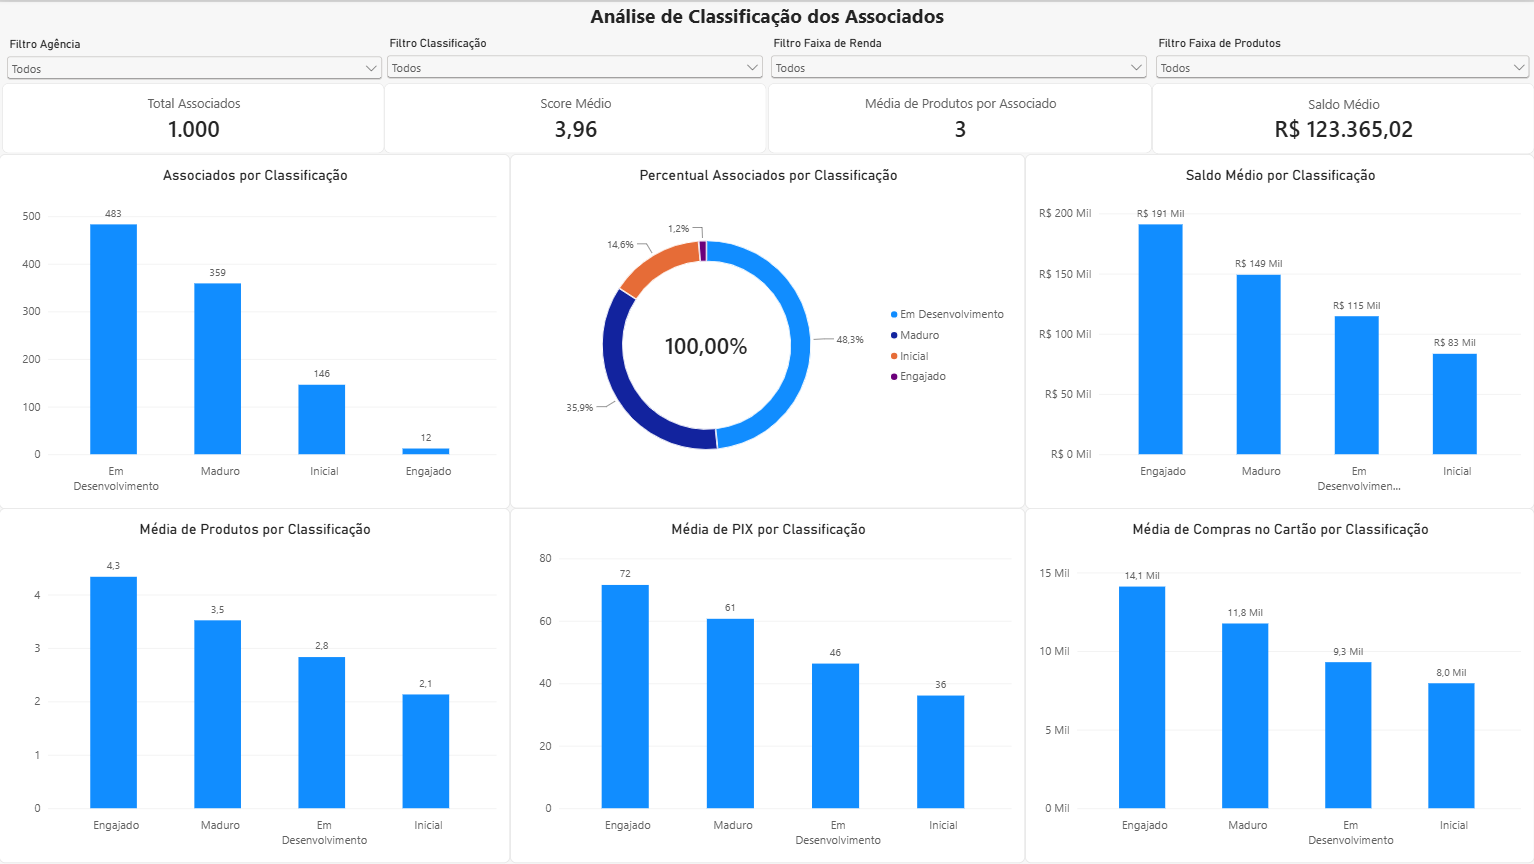

This screenshot's page, from the dashboard's own definition file:
{"tool":"powerbi","page":{"name":"Classificação ","canvas":[1920,1080],"ordinal":2},"visuals":[{"type":"cardVisual","fields":{"Data":["Associados.Total Associados"]},"box":[3.7,101.2,478.6,88.6],"z":0},{"type":"cardVisual","fields":{"Data":["Associados.Saldo Médio"]},"box":[1441.5,101.5,478.5,89.2],"z":1000},{"type":"cardVisual","fields":{"Data":["Associados.Produtos por Associado"]},"box":[961.7,101.2,480,88.6],"z":2000},{"type":"cardVisual","fields":{"Data":["Associados.Score Médio"]},"box":[481.5,101.5,478.6,88.6],"z":3000},{"type":"clusteredColumnChart","title":"Associados por Classificação","fields":{"Category":["Associados.CLASSIFICACAO"],"Y":["Associados.Total Associados"]},"box":[0,190,638.6,444.3],"z":4000},{"type":"clusteredColumnChart","title":"Média de Produtos por Classificação","fields":{"Category":["Associados.CLASSIFICACAO"],"Y":["Associados.Produtos por Associado"]},"box":[0,632.9,638.6,444.3],"z":5000},{"type":"clusteredColumnChart","title":"Saldo Médio por Classificação","fields":{"Category":["Associados.CLASSIFICACAO"],"Y":["Associados.Saldo Médio"]},"box":[1282.9,190,637.1,444.3],"z":6000},{"type":"clusteredColumnChart","title":"Média de PIX por Classificação","fields":{"Category":["Associados.CLASSIFICACAO"],"Y":["Associados.PIX Médio"]},"box":[638.6,632.9,644.3,444.3],"z":7000},{"type":"clusteredColumnChart","title":"Média de Compras no Cartão por Classificação","fields":{"Category":["Associados.CLASSIFICACAO"],"Y":["Associados.Compras Cartão Média"]},"box":[1282.9,632.9,637.1,444.3],"z":8000},{"type":"textbox","box":[0,0,1920,41.4],"z":9000},{"type":"donutChart","title":"Percentual Associados por Classificação","fields":{"Category":["Associados.CLASSIFICACAO"],"Y":["Associados.Percentual Associados"]},"box":[638.6,190,644.3,442.9],"z":10000},{"type":"slicer","fields":{"Values":["Associados.AGENCIA"]},"box":[4.5,44.7,478.6,58.6],"z":11000},{"type":"slicer","fields":{"Values":["Associados.FAIXA_PRODUTOS"]},"box":[1441.4,44.3,477.1,58.6],"z":12000},{"type":"slicer","fields":{"Values":["Associados.CLASSIFICACAO"]},"box":[480,44.3,480,58.6],"z":13000},{"type":"slicer","fields":{"Values":["Associados.FAIXA_RENDA"]},"box":[960,44.3,480,58.6],"z":14000}]}

Visuals, with their boxes in screenshot pixels (x1, y1, x2, y2), scaled from the page's 1920x1080 canvas onto the 1534x864 screenshot:
cardVisual - Associados.Total Associados: {"x1": 3, "y1": 81, "x2": 385, "y2": 152}
cardVisual - Associados.Saldo Médio: {"x1": 1152, "y1": 81, "x2": 1533, "y2": 153}
cardVisual - Associados.Produtos por Associado: {"x1": 768, "y1": 81, "x2": 1152, "y2": 152}
cardVisual - Associados.Score Médio: {"x1": 385, "y1": 81, "x2": 767, "y2": 152}
"Associados por Classificação" clusteredColumnChart: {"x1": 0, "y1": 152, "x2": 510, "y2": 507}
"Média de Produtos por Classificação" clusteredColumnChart: {"x1": 0, "y1": 506, "x2": 510, "y2": 862}
"Saldo Médio por Classificação" clusteredColumnChart: {"x1": 1025, "y1": 152, "x2": 1533, "y2": 507}
"Média de PIX por Classificação" clusteredColumnChart: {"x1": 510, "y1": 506, "x2": 1025, "y2": 862}
"Média de Compras no Cartão por Classificação" clusteredColumnChart: {"x1": 1025, "y1": 506, "x2": 1533, "y2": 862}
textbox: {"x1": 0, "y1": 0, "x2": 1533, "y2": 33}
"Percentual Associados por Classificação" donutChart: {"x1": 510, "y1": 152, "x2": 1025, "y2": 506}
slicer - Associados.AGENCIA: {"x1": 4, "y1": 36, "x2": 386, "y2": 83}
slicer - Associados.FAIXA_PRODUTOS: {"x1": 1152, "y1": 35, "x2": 1533, "y2": 82}
slicer - Associados.CLASSIFICACAO: {"x1": 384, "y1": 35, "x2": 767, "y2": 82}
slicer - Associados.FAIXA_RENDA: {"x1": 767, "y1": 35, "x2": 1150, "y2": 82}
